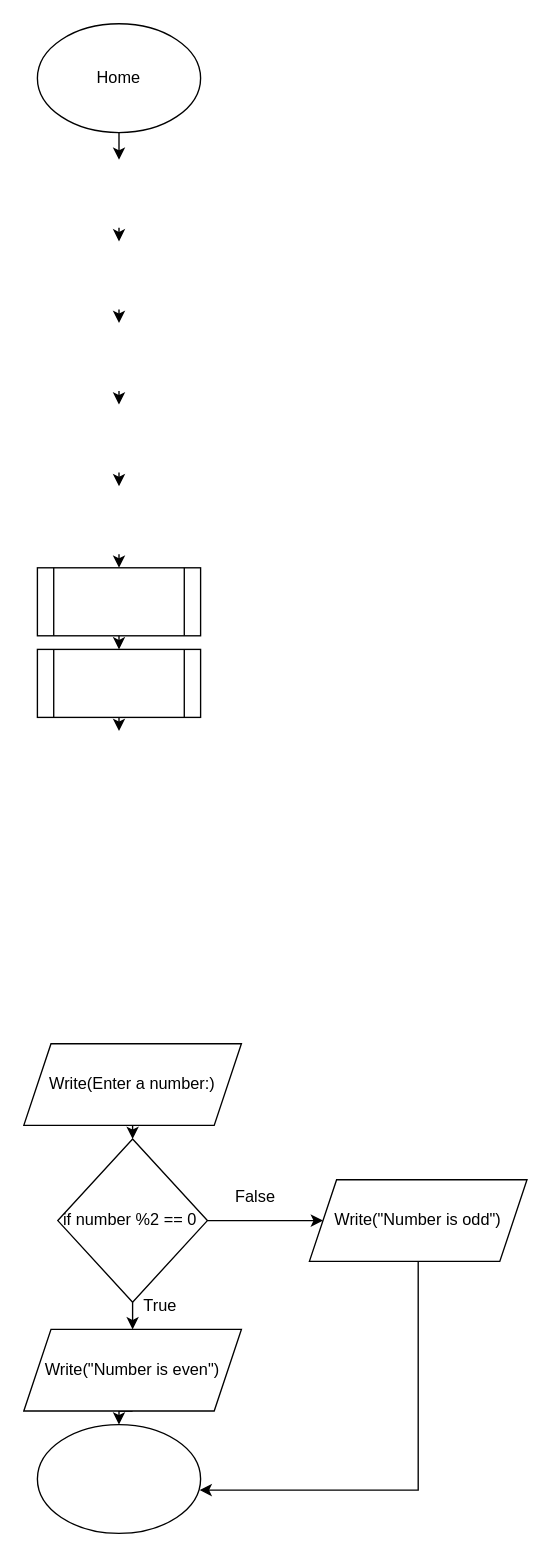
Some shapes in this 551 by 1557 pixel diagram are drawn without their labels. The shapes that lost their labels are listed below. From the top down, each one's box as (x1, y1, x2, y2) in pixels, then its label:
(36, 566, 201, 636): Read(n3)
(36, 648, 201, 717): Generate number(1,51)
(36, 1423, 201, 1533): End
